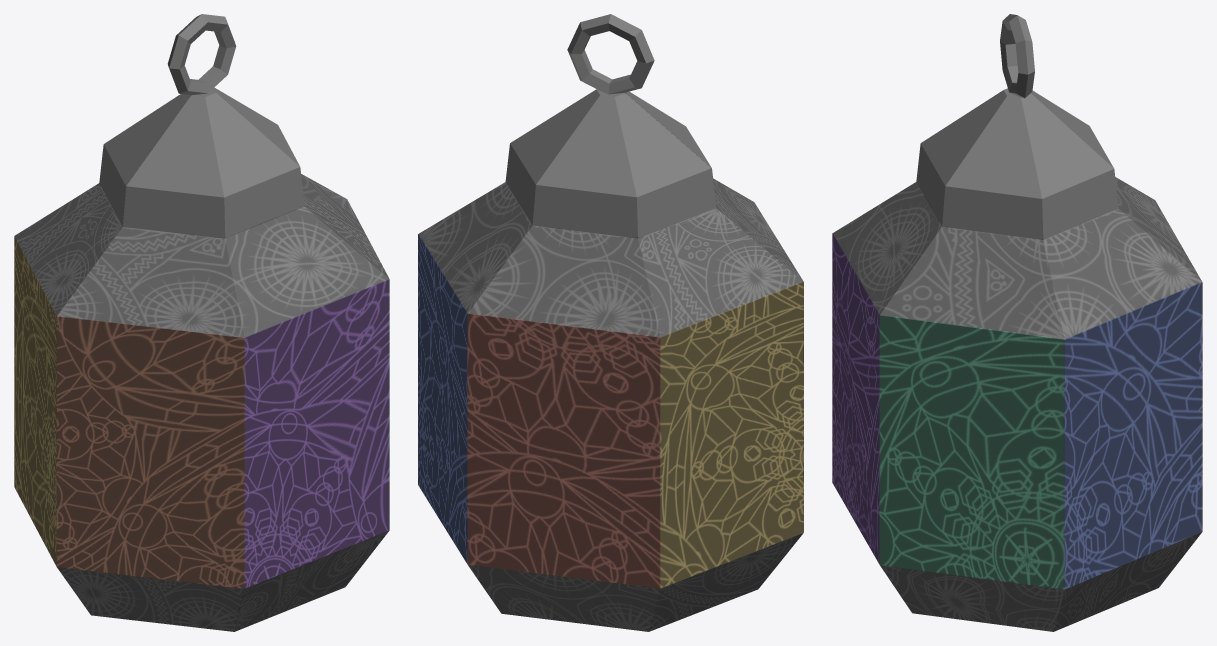
File: latern2.fbx
3 renders of one model, left to right at view 1: azimuth 30°, elevation 25°; view 2: azimuth 150°, elevation 25°; view 3: azimuth 270°, elevation 25°, orthographic.
Parts seen in each view (by area): view 1: Latern2; view 2: Latern2; view 3: Latern2.
Part boxes in pixels (box(x1,y1,x2,y2)): Latern2: box(14, 14, 389, 631); Latern2: box(418, 14, 803, 631); Latern2: box(832, 14, 1202, 631).
Bounding box in the file's own units: 1.44 × 2.26 × 1.37.
